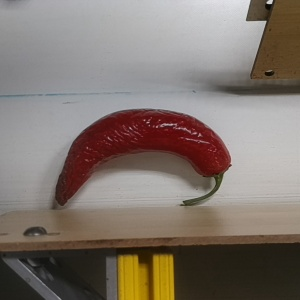Cut Point: (192, 156, 234, 188)
